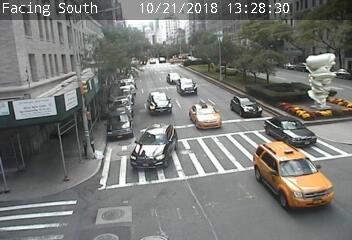car: (254, 141, 331, 210), (131, 123, 176, 169), (264, 116, 315, 148), (189, 103, 220, 130), (230, 96, 261, 117), (147, 92, 171, 114), (177, 78, 196, 95), (167, 73, 182, 84)
